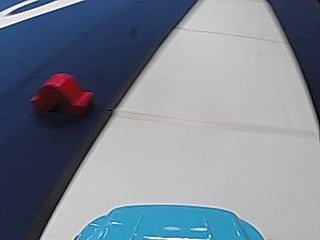bridge: (28, 70, 99, 118)
